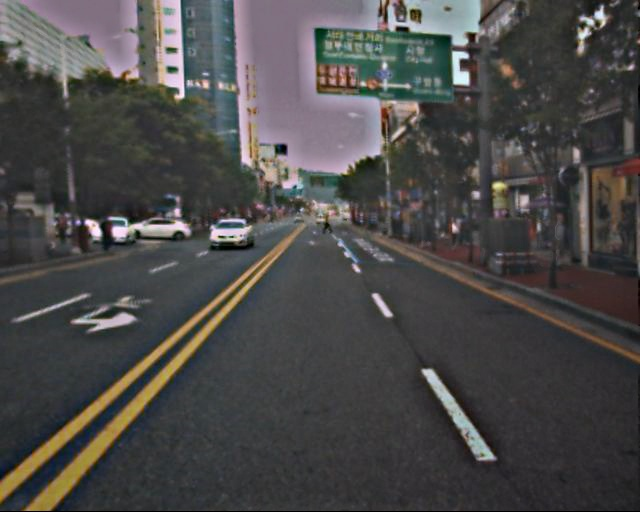person: (548, 210, 572, 268), (387, 218, 413, 245), (99, 218, 114, 254), (458, 215, 472, 250), (55, 213, 68, 245), (447, 215, 460, 247), (322, 212, 332, 237)
